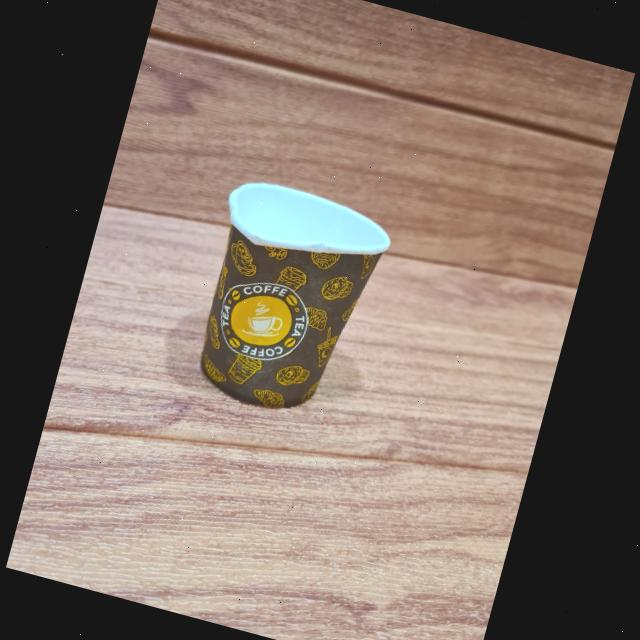trash: (175, 174, 402, 427)
